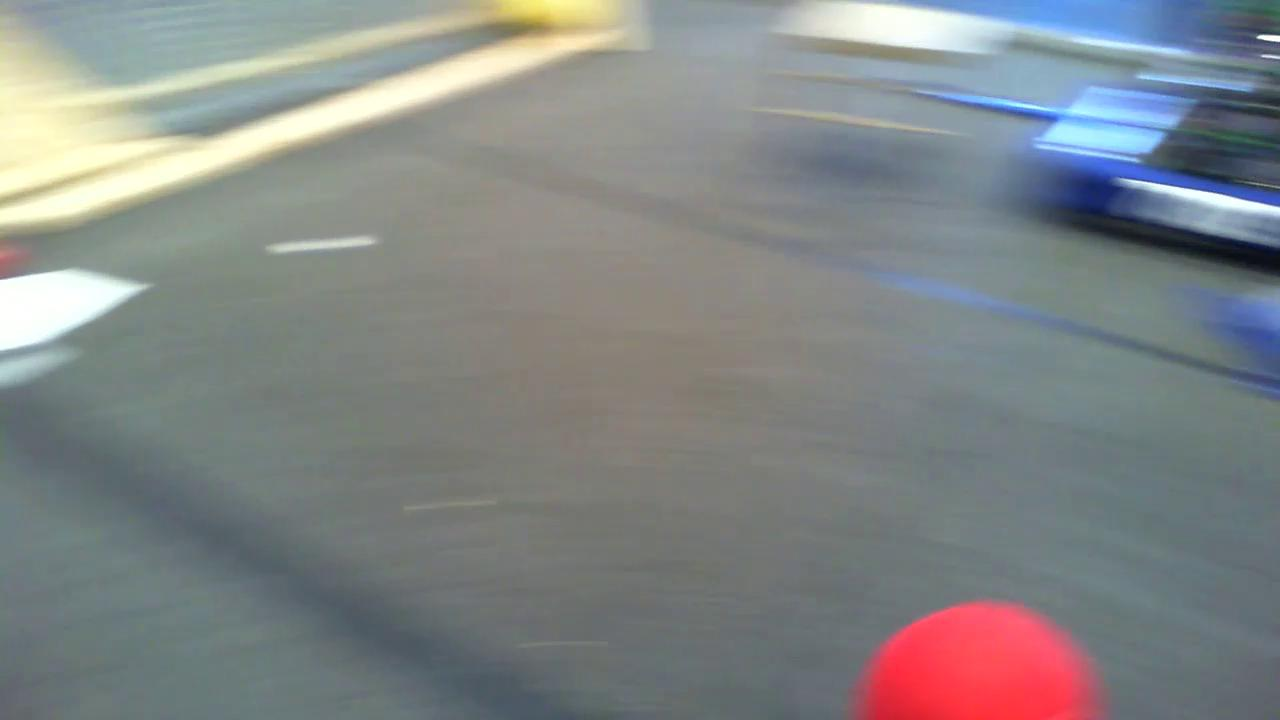Red_Ball: (819, 598, 1155, 720)
